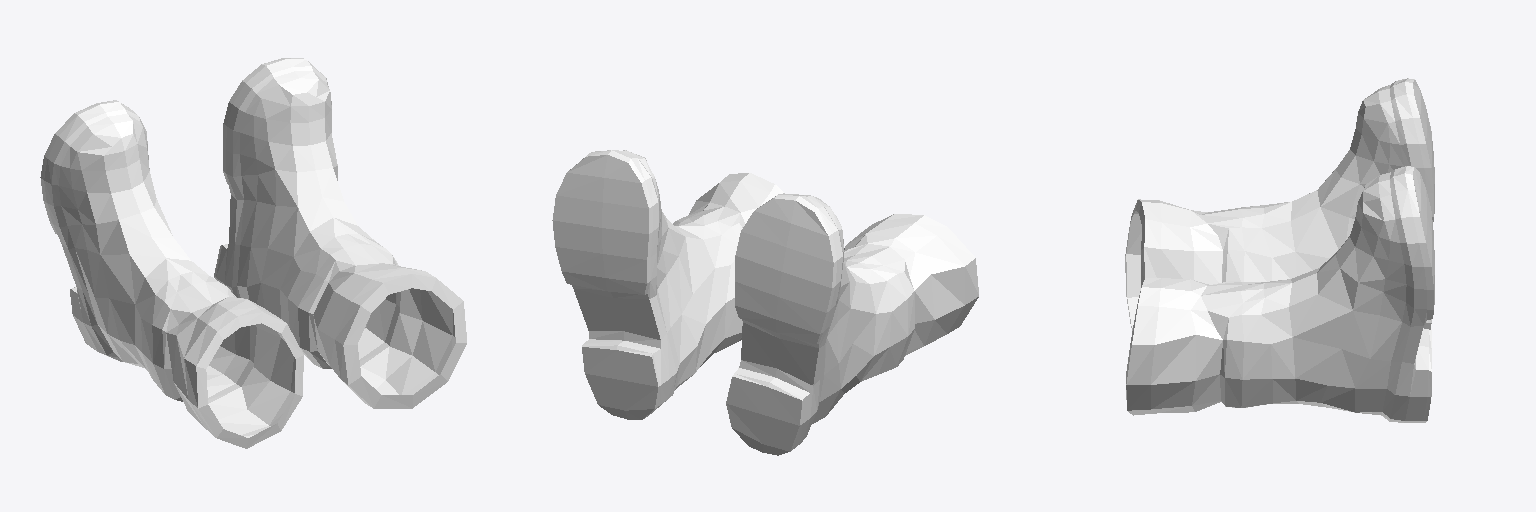
The model's file is mdlB1.obj.
3 views of the same model, side by side, from view 1: azimuth 30°, elevation 25°; view 2: azimuth 150°, elevation 25°; view 3: azimuth 270°, elevation 25° (orthographic).
Visible parts, largest first — view 1: mdl.003; view 2: mdl.003; view 3: mdl.003.
Part boxes in pixels (bbox=[...]): mdl.003: bbox=[40, 58, 466, 448]; mdl.003: bbox=[552, 150, 978, 455]; mdl.003: bbox=[1125, 78, 1434, 422].
Size of the model in its own units: 23.46 by 20.62 by 22.5.